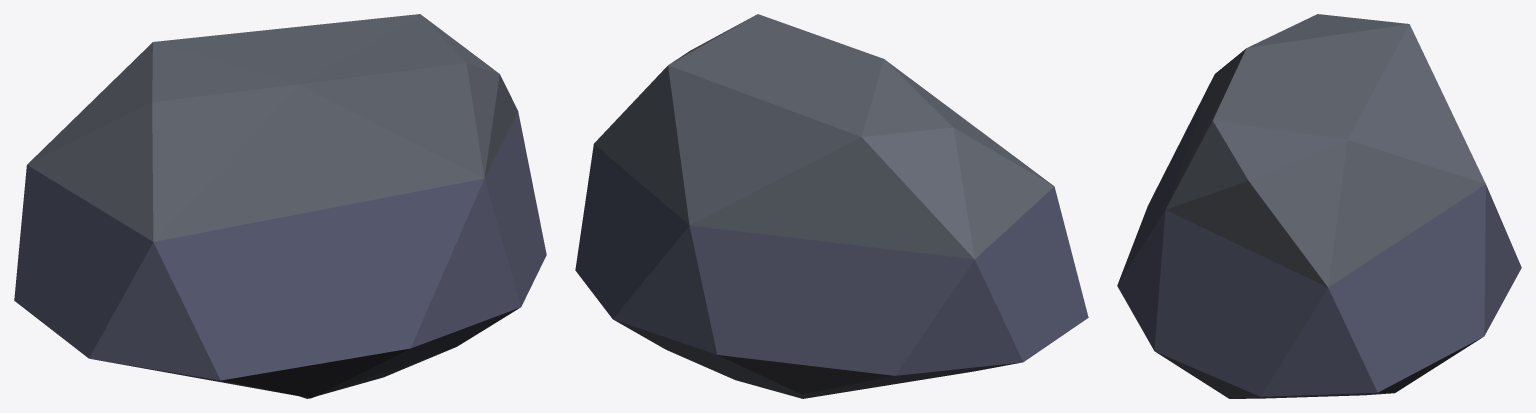
File: ROCK 2(MEDIUM).fbx
3 views of the same model, side by side, from view 1: azimuth 30°, elevation 25°; view 2: azimuth 150°, elevation 25°; view 3: azimuth 270°, elevation 25° (orthographic). The views are drawn at different scales.
Visible parts, largest first — view 1: rock3; view 2: rock3; view 3: rock3.
Boxes of the visible parts, <box> form: rock3: <box>14,14,546,398</box>; rock3: <box>575,14,1088,398</box>; rock3: <box>1117,14,1521,398</box>.
Bounding box in the file's own units: 277 × 178 × 212.
